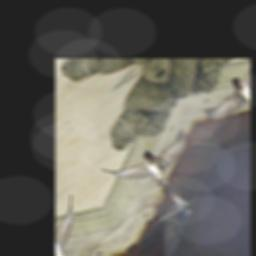Swallow: (99, 109, 205, 218)
